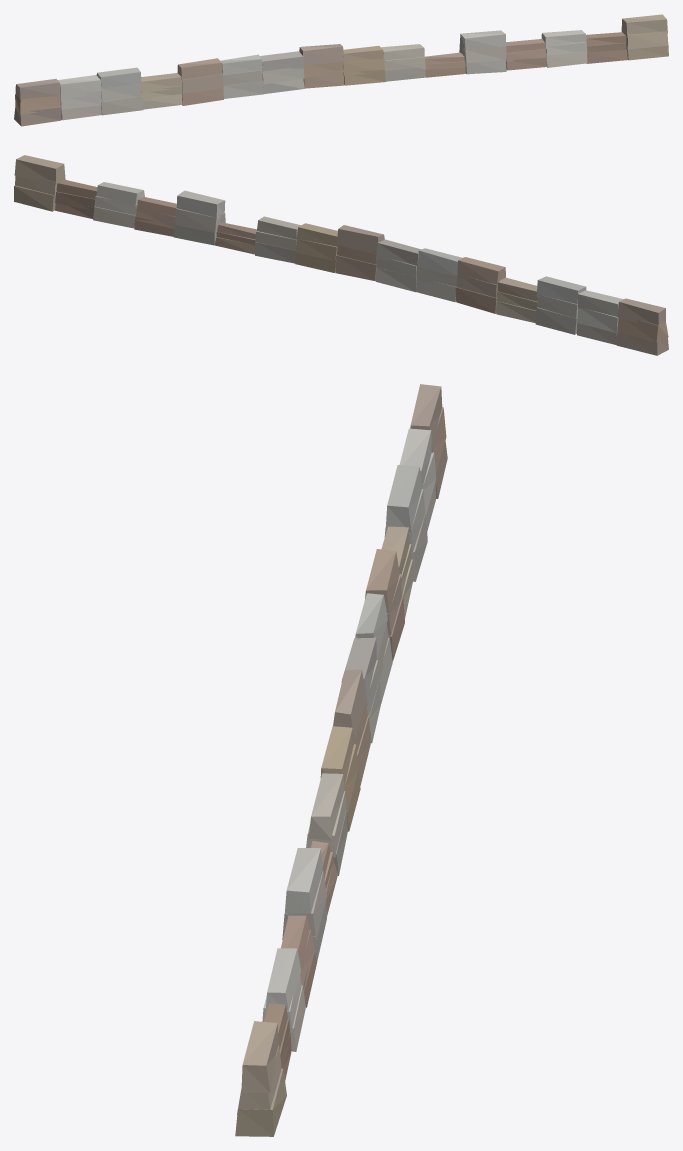
File: farm_1_-4_mid.glb
The picture shows the model from 3 angles, top to bottom: view 1: azimuth 30°, elevation 25°; view 2: azimuth 150°, elevation 25°; view 3: azimuth 270°, elevation 25°; orthographic projection. The views are drawn at different scales.
Visible parts, largest first — view 1: geometry_0; view 2: geometry_0; view 3: geometry_0.
Part boxes in pixels (box(x1,y1,x2,y2)): geometry_0: box(14, 14, 668, 126); geometry_0: box(14, 155, 668, 355); geometry_0: box(235, 384, 447, 1136).
Bounding box in the file's own units: 25.35 × 3.28 × 3.85.
